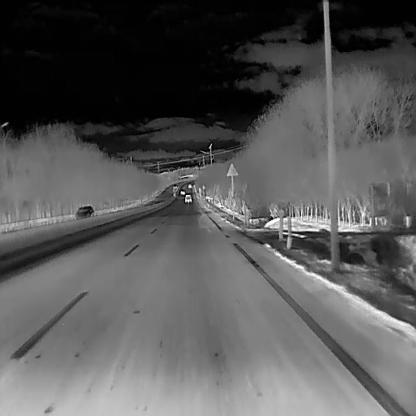car: (73, 206, 93, 220), (185, 193, 191, 202)
